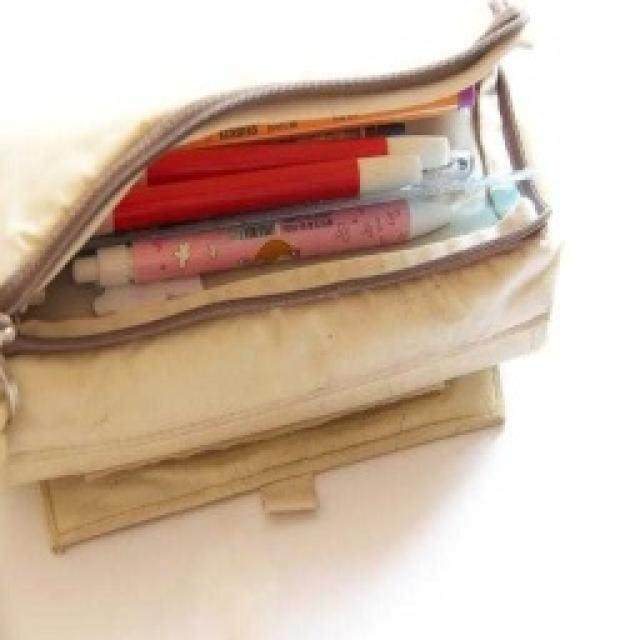pencil: (0, 0, 562, 555)
